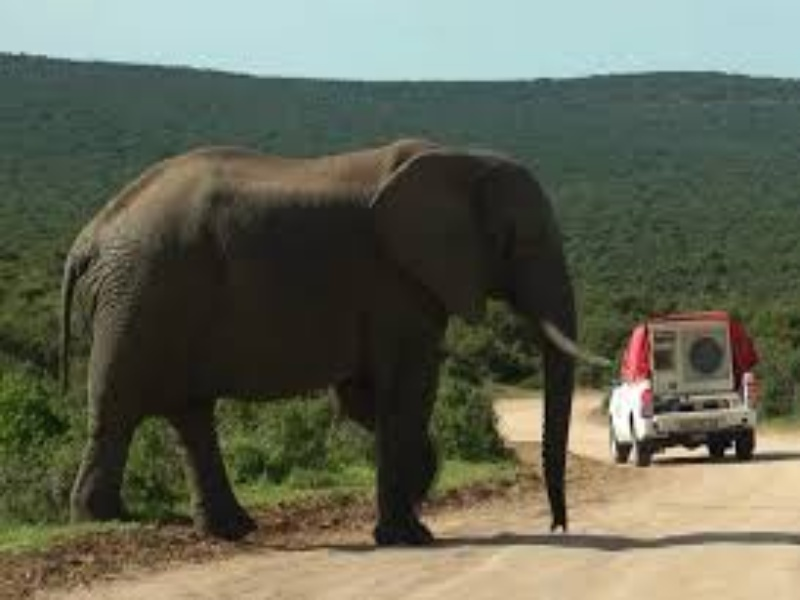elephant: (48, 138, 616, 553)
